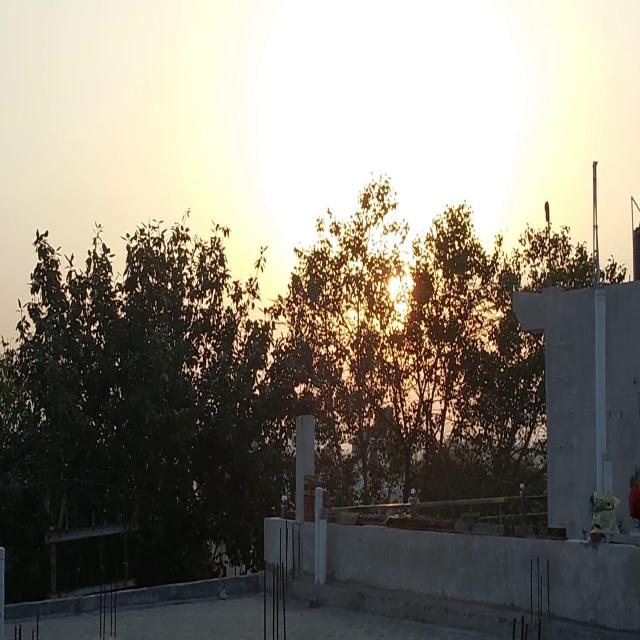other: (292, 86, 442, 352)
